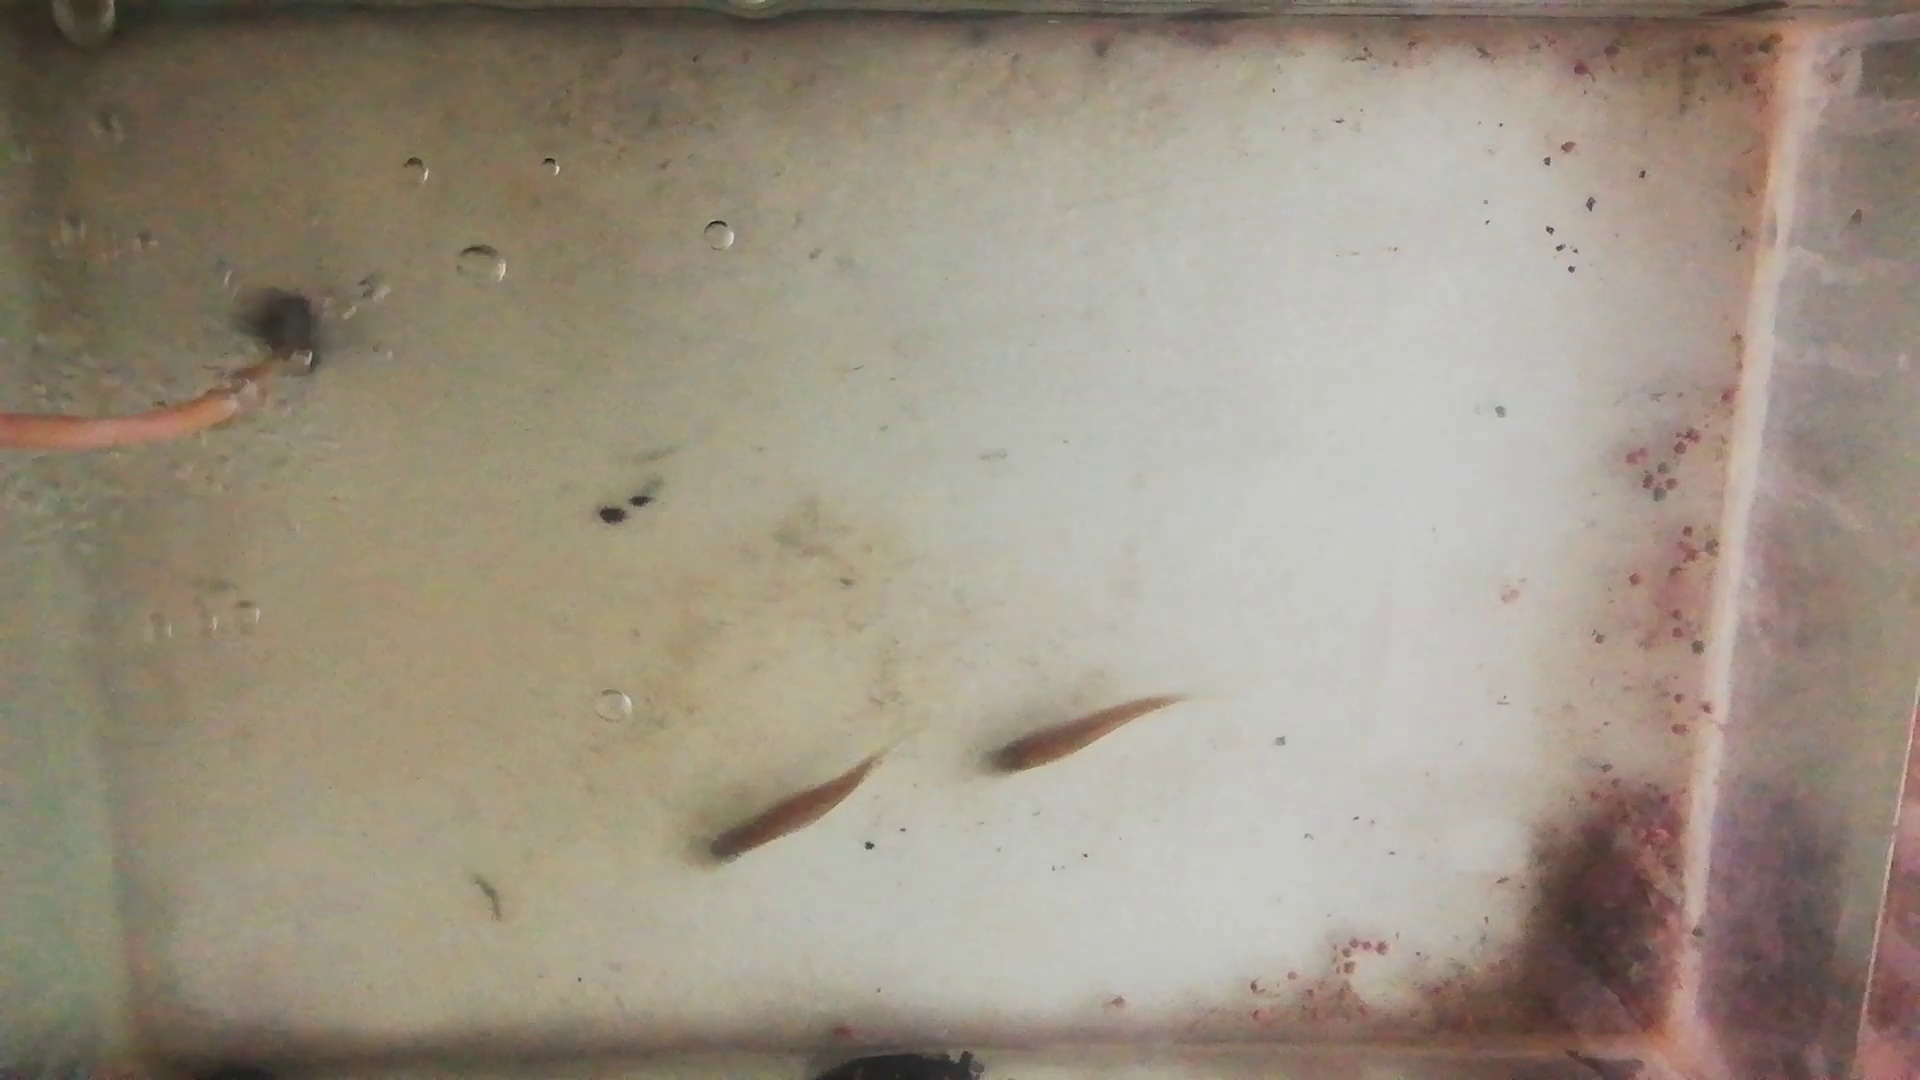fish: (708, 756, 884, 858), (992, 695, 1180, 773)
